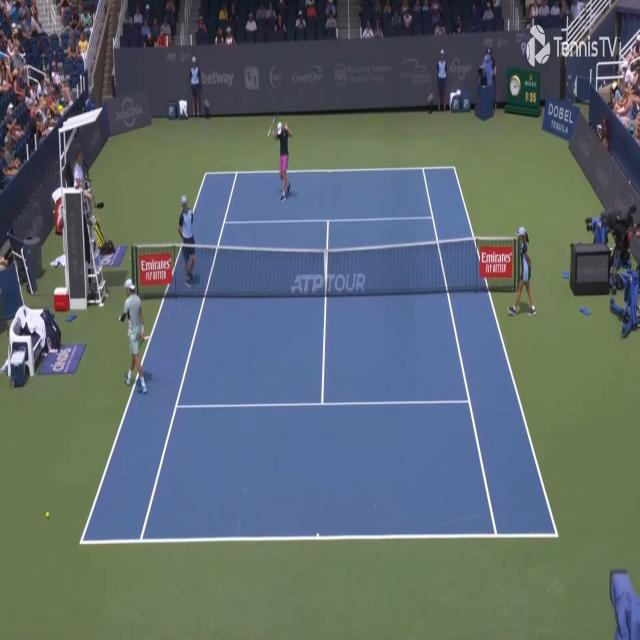tennis-player: (118, 274, 154, 396), (266, 108, 294, 204)
